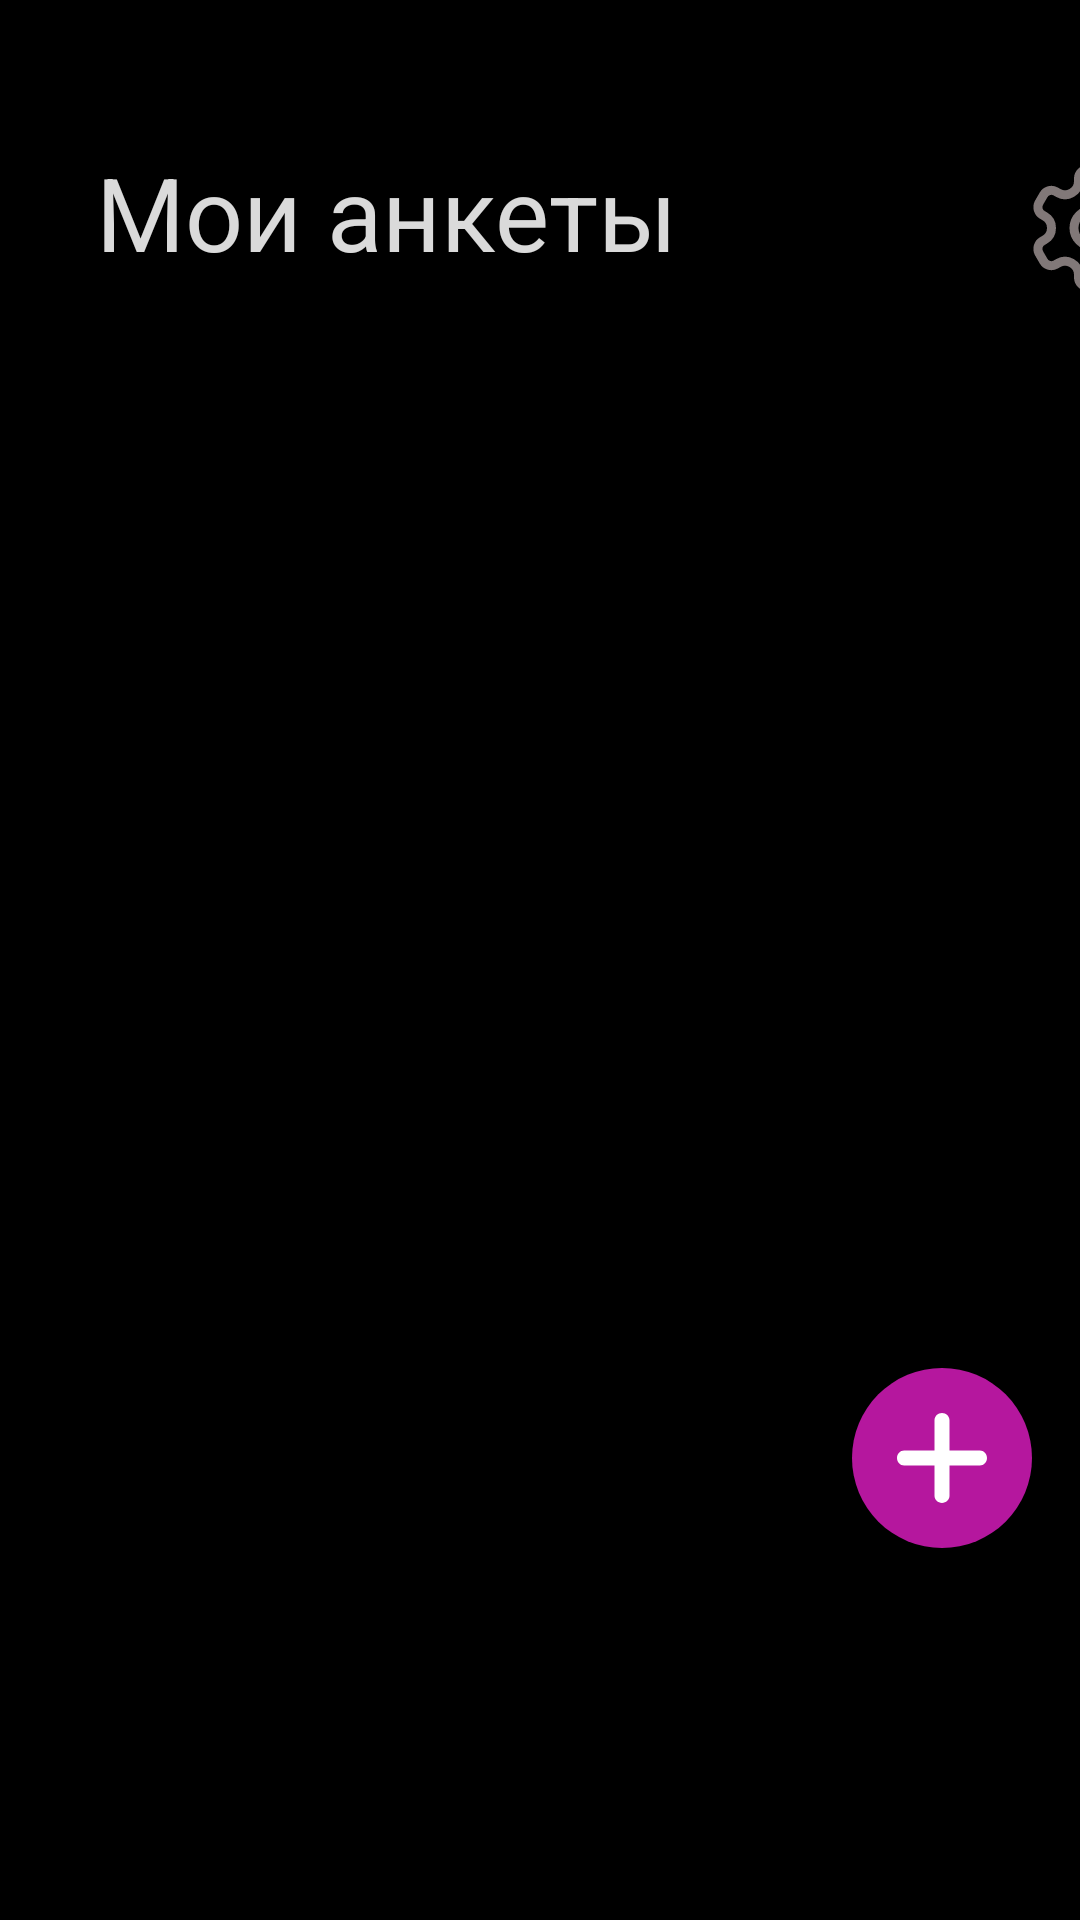

Where to tap for icons on this 1080x1920 app screen, as point (x, y):
plus: point (942, 1458)
